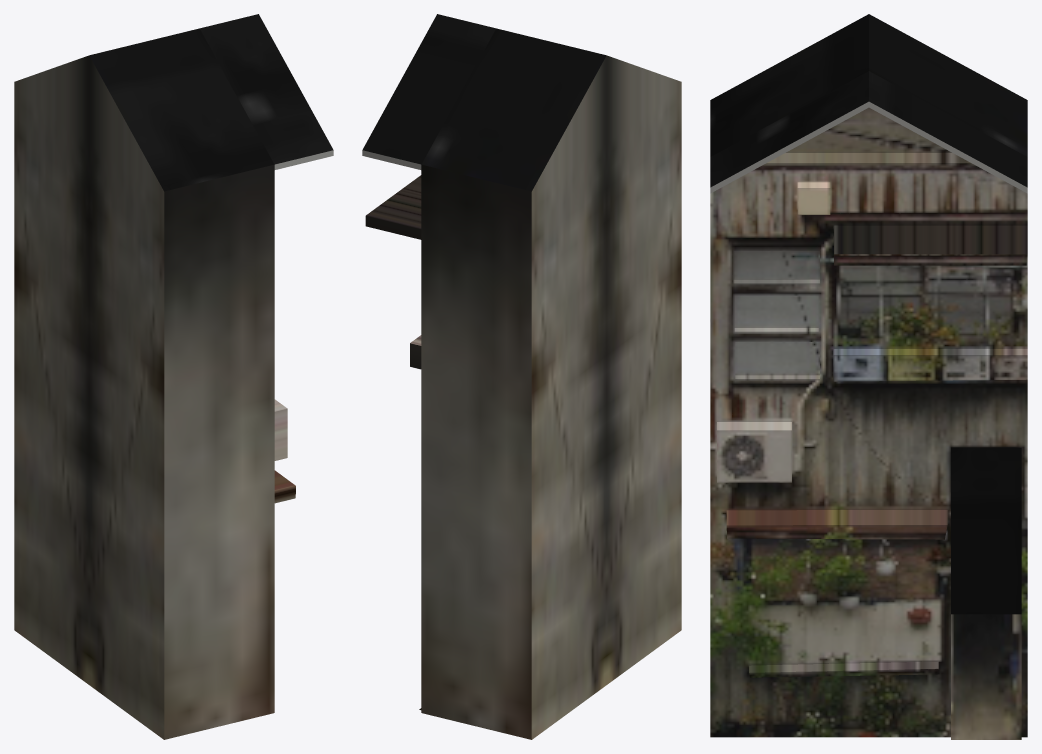
The model's file is japan_house.fbx.
3 views of the same model, side by side, from view 1: azimuth 30°, elevation 25°; view 2: azimuth 150°, elevation 25°; view 3: azimuth 270°, elevation 25° (orthographic). The views are drawn at different scales.
Parts seen in each view (by area): view 1: Cube; view 2: Cube; view 3: Cube.
Boxes of the visible parts, x1,y1,x2,y2 form: Cube: [14, 14, 333, 739]; Cube: [362, 14, 681, 739]; Cube: [710, 14, 1027, 739].
Size of the model in its own units: 427 by 1515 by 654.
Materials: 1 (1 with a texture image).
